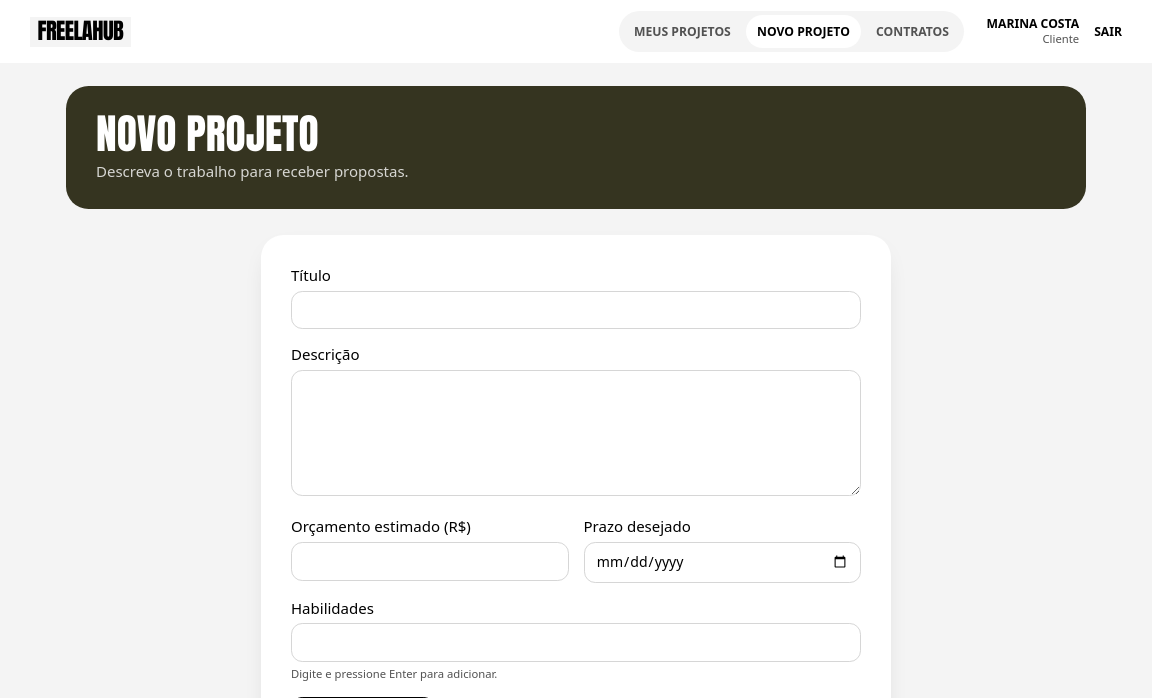
formulário de novo projeto › publica e abre o detalhe do projeto
Type "Aplicativo de entregas" into the field labelled "Título" at x=576, y=310, box [291,291,861,330]
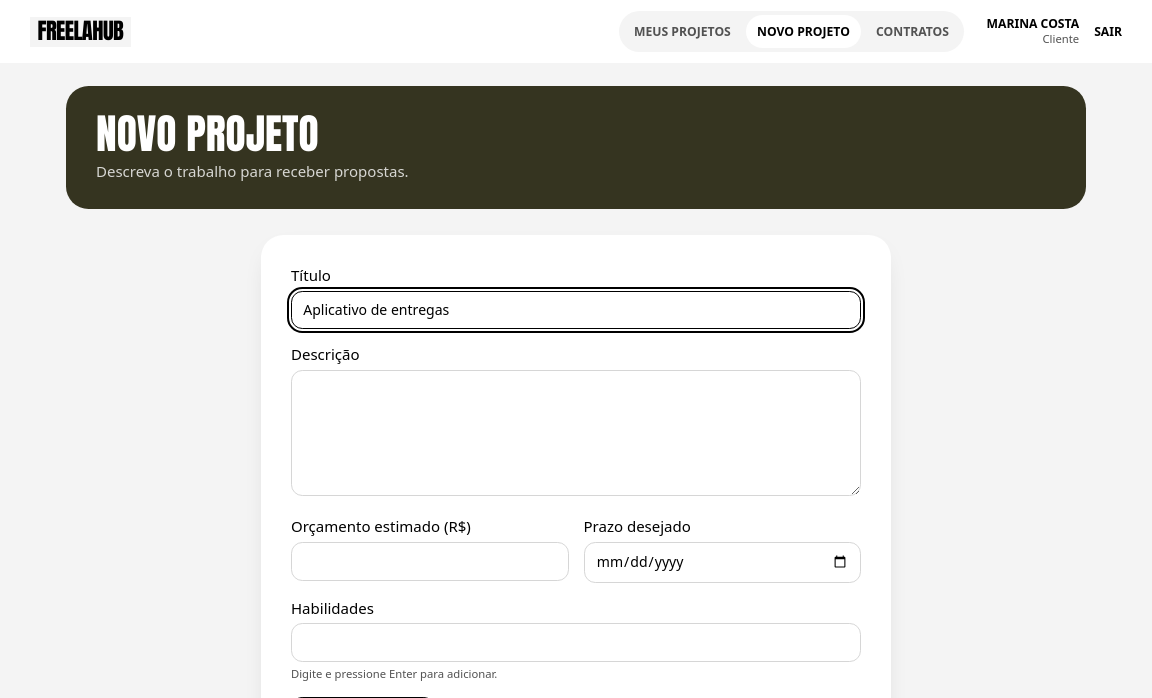
Type "Aplicativo para acompanhar pedidos." into the text box labelled "Descrição" at x=576, y=433, box [291,370,861,496]
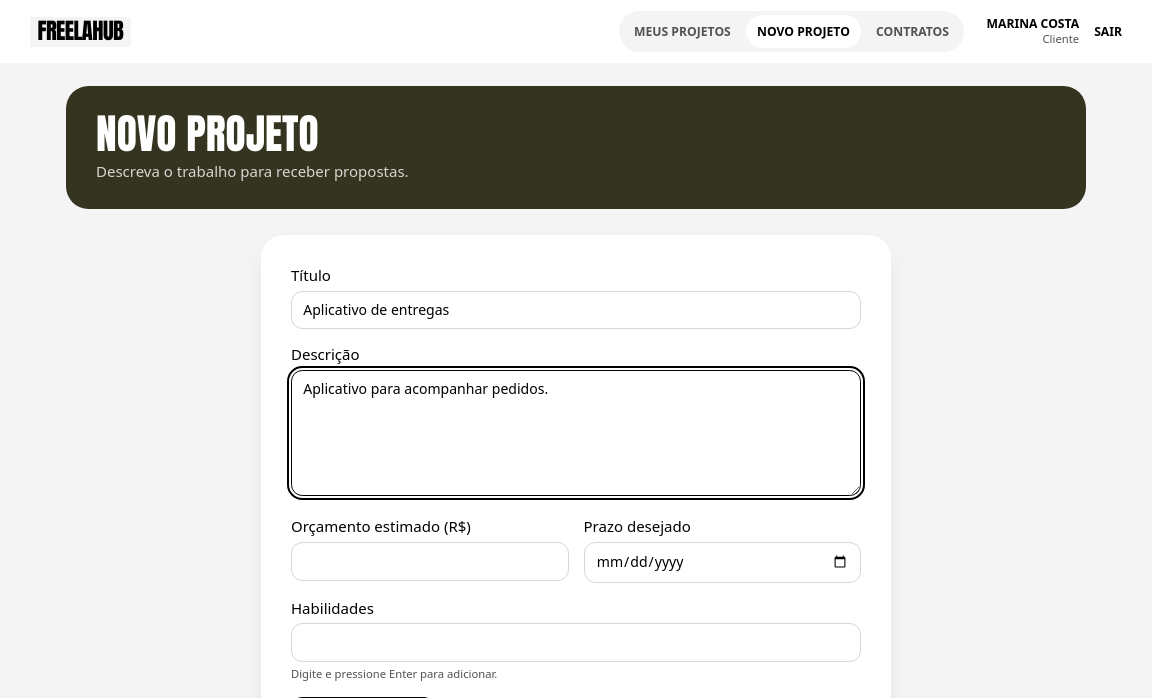
Type "3000" into the number field labelled "Orçamento estimado (R$)" at x=430, y=561, box [291,542,568,581]
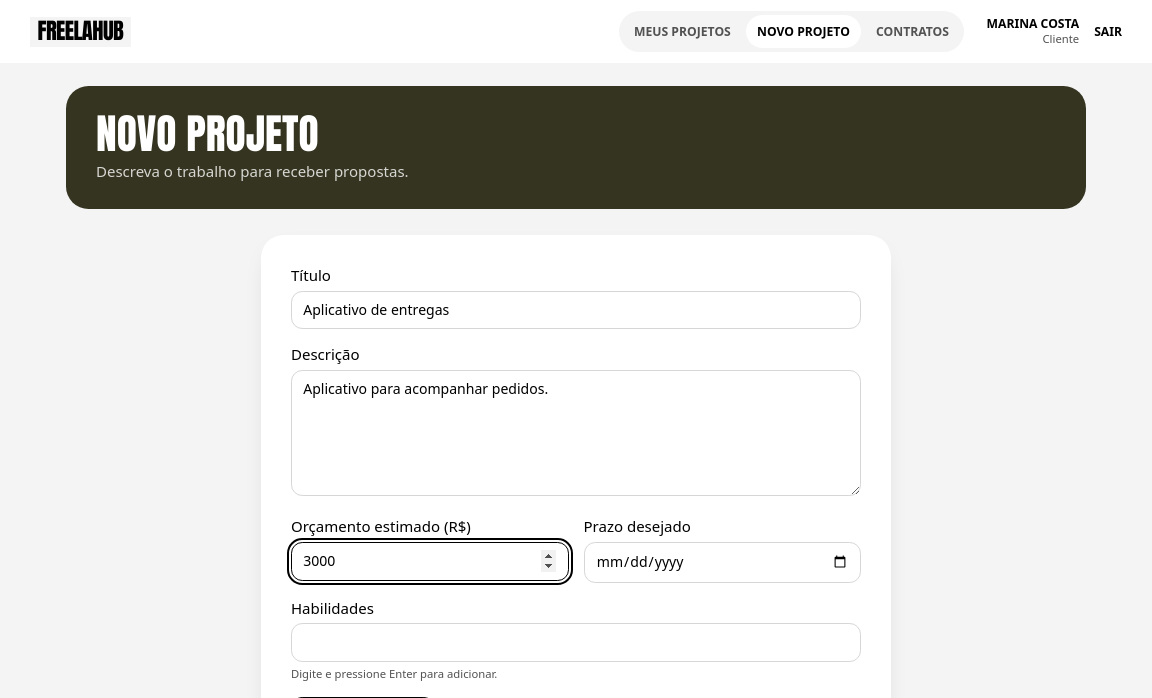
Type "2099-01-15" into the date field labelled "Prazo desejado" at x=722, y=562, box [584,542,861,583]
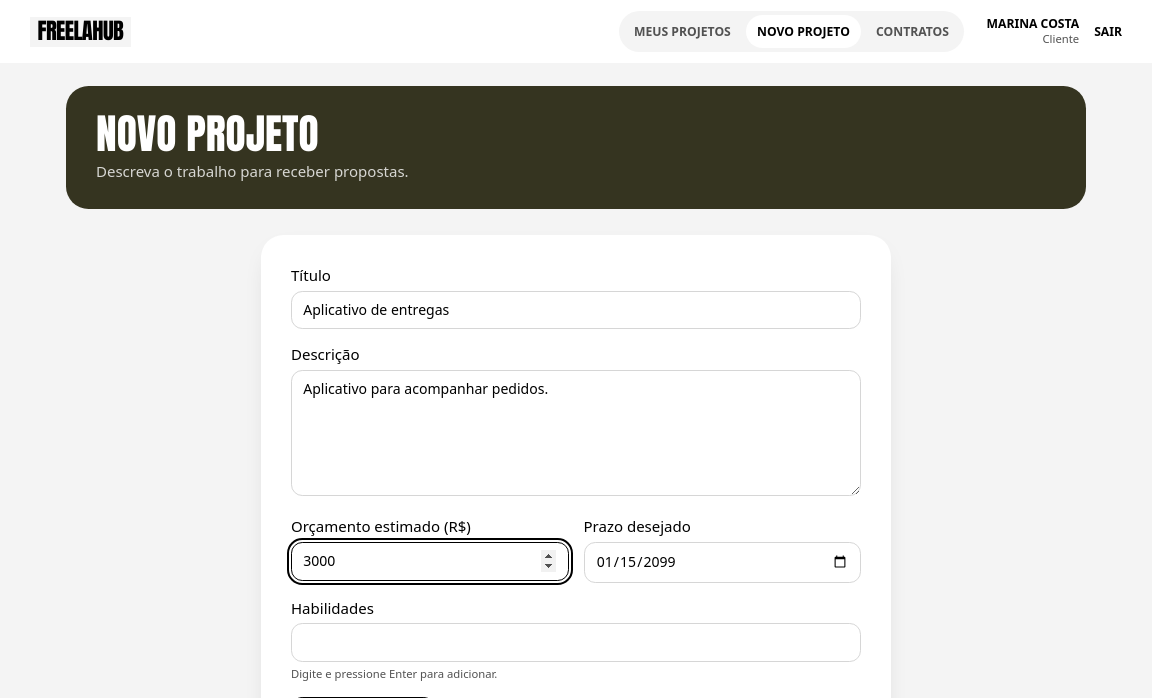
Type "React" into the field labelled "Habilidades" at x=576, y=643, box [291,623,861,662]
Then press Enter
(page scrolled)
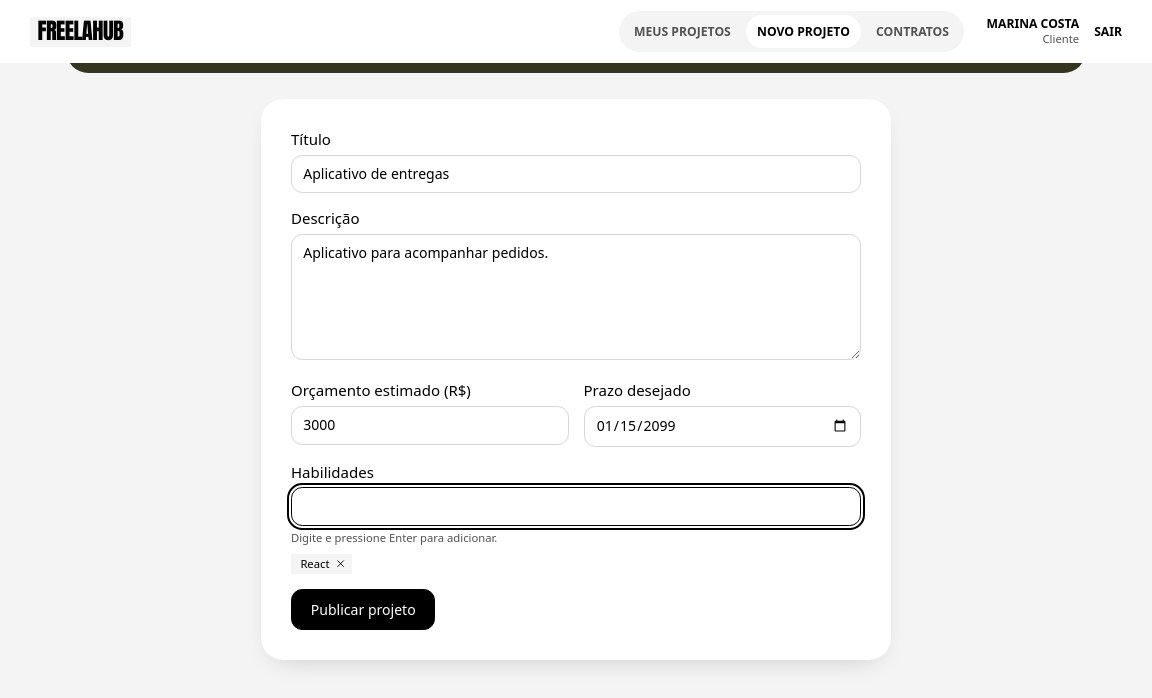
Click the button "Publicar projeto" at x=363, y=610, box [291,589,435,630]
(page scrolled)
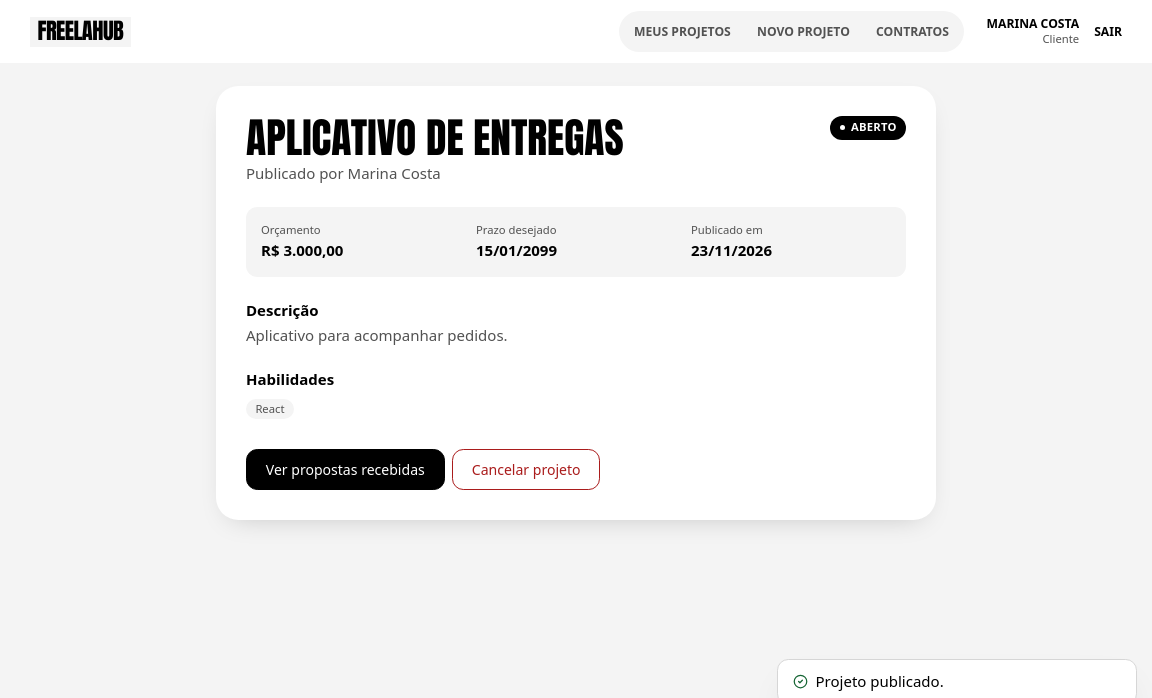
Check: the heading "Aplicativo de entregas" is shown, box [246,116,624,159]
Check: the button "Cancelar projeto" is shown, box [452,449,600,490]
